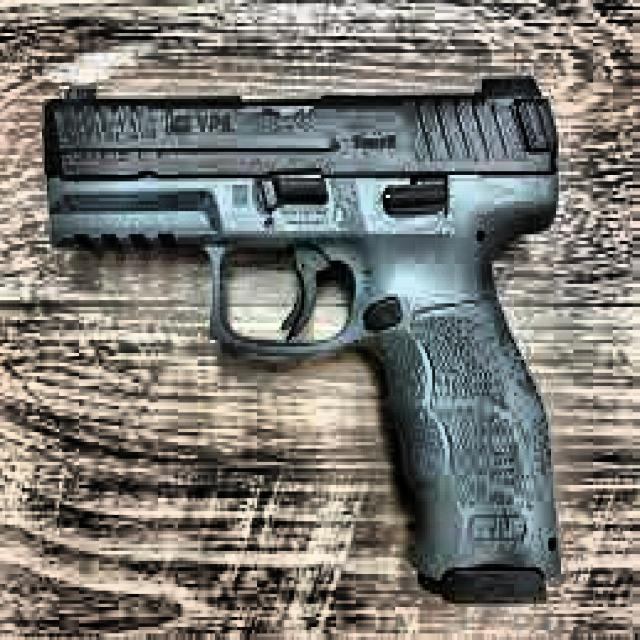HKVP9: (39, 69, 564, 604)
